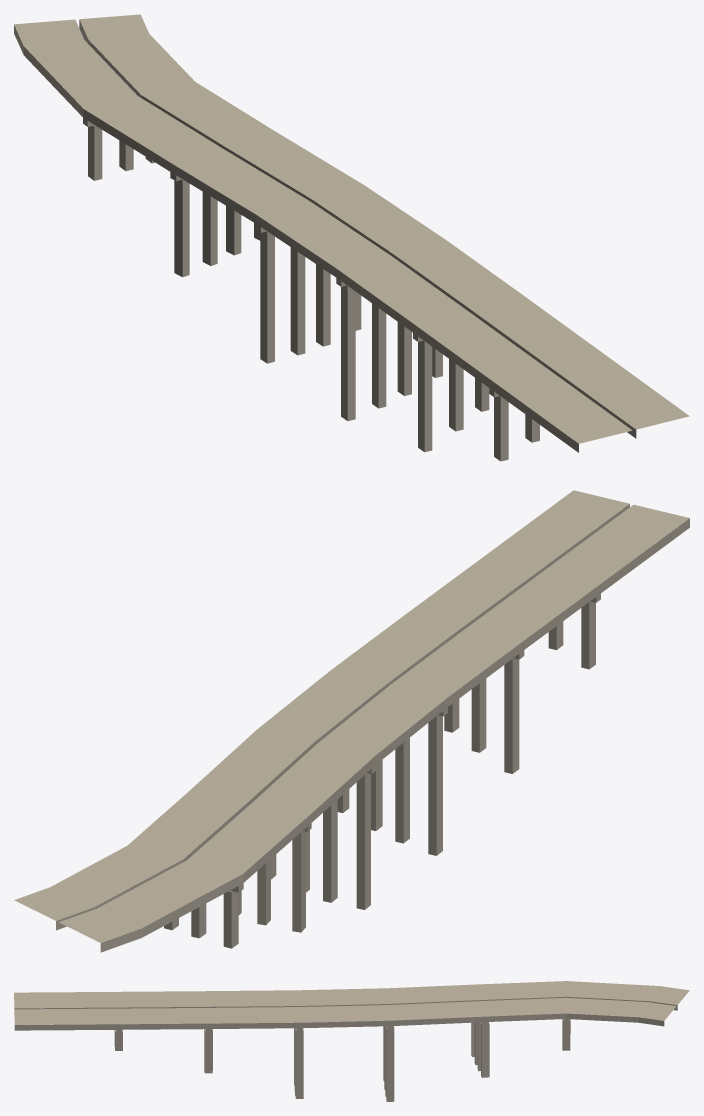
The model's file is m2_salt_range_viaducts_far.glb.
3 views of the same model, one above another, from view 1: azimuth 30°, elevation 25°; view 2: azimuth 150°, elevation 25°; view 3: azimuth 270°, elevation 25° (orthographic). The views are drawn at different scales.
Visible parts, largest first — view 1: m_deck_concrete, m_pier_concrete; view 2: m_deck_concrete, m_pier_concrete; view 3: m_deck_concrete, m_pier_concrete.
Boxes of the visible parts, box(x1,y1,x2,y2) form: m_deck_concrete: box(14, 14, 689, 443); m_pier_concrete: box(14, 20, 636, 461); m_deck_concrete: box(14, 490, 689, 942); m_pier_concrete: box(56, 504, 689, 952); m_deck_concrete: box(14, 981, 689, 1024); m_pier_concrete: box(14, 996, 677, 1101).
Bounding box in the file's own units: 32.98 × 33.88 × 225.
